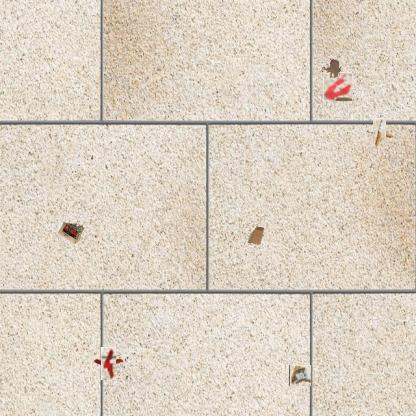dirty: (58, 220, 86, 244), (97, 352, 120, 375), (244, 224, 266, 245), (369, 122, 390, 144), (289, 365, 311, 386)
liquid: (323, 72, 352, 101), (322, 59, 340, 77)
